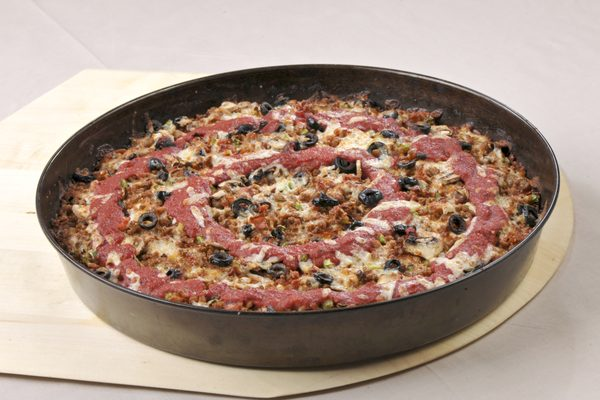sandwich: (65, 84, 548, 314)
